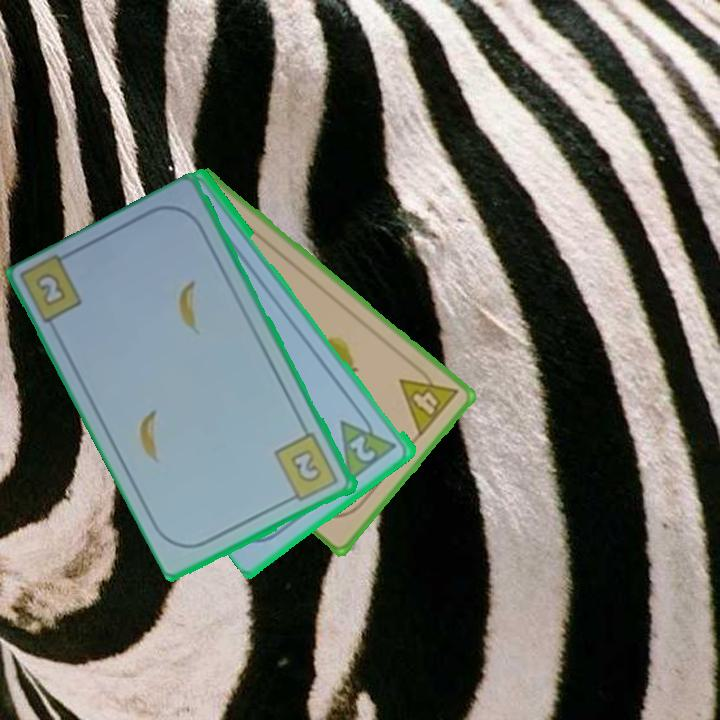2b: (271, 430, 343, 505), (32, 269, 70, 310)
2p: (346, 432, 379, 465)
4p: (395, 359, 462, 440)
